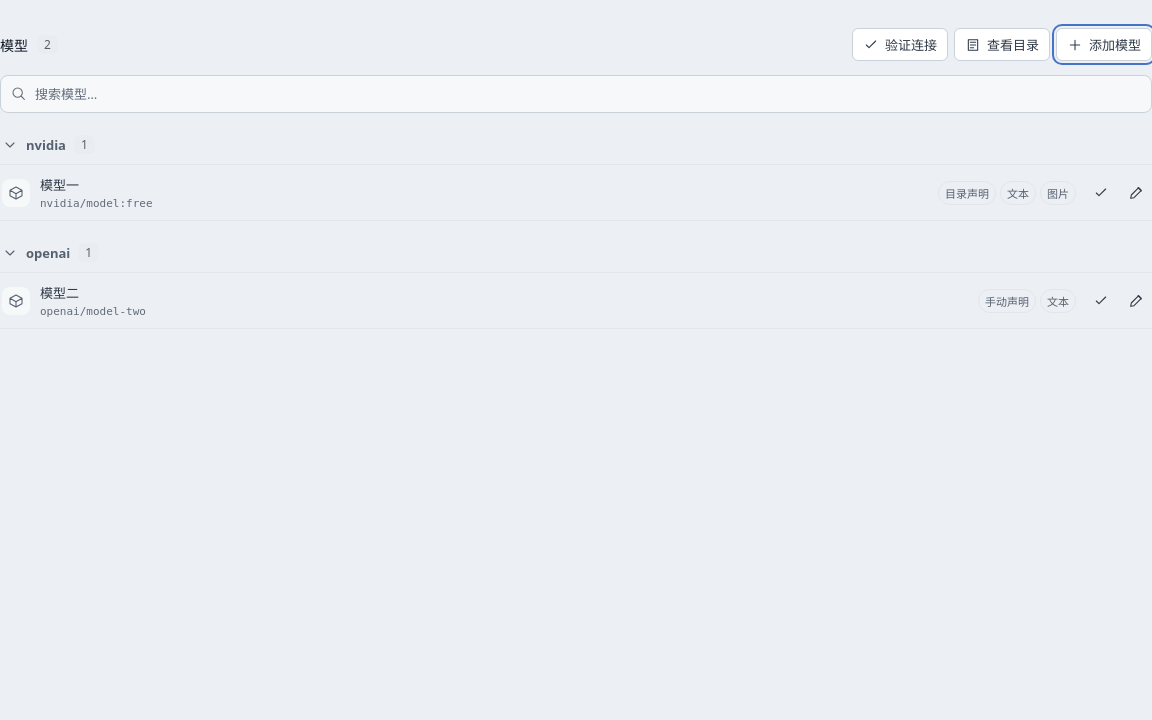
it: 紧凑模型管理 › 添加弹窗取消不保存，Escape关闭并恢复触发焦点
The width and height of the screenshot is (1152, 720).
expect the text "模型一" is shown: met, box [40,176,79,194]
Click the button "添加模型" at (1104, 44), box [1056,28,1151,61]
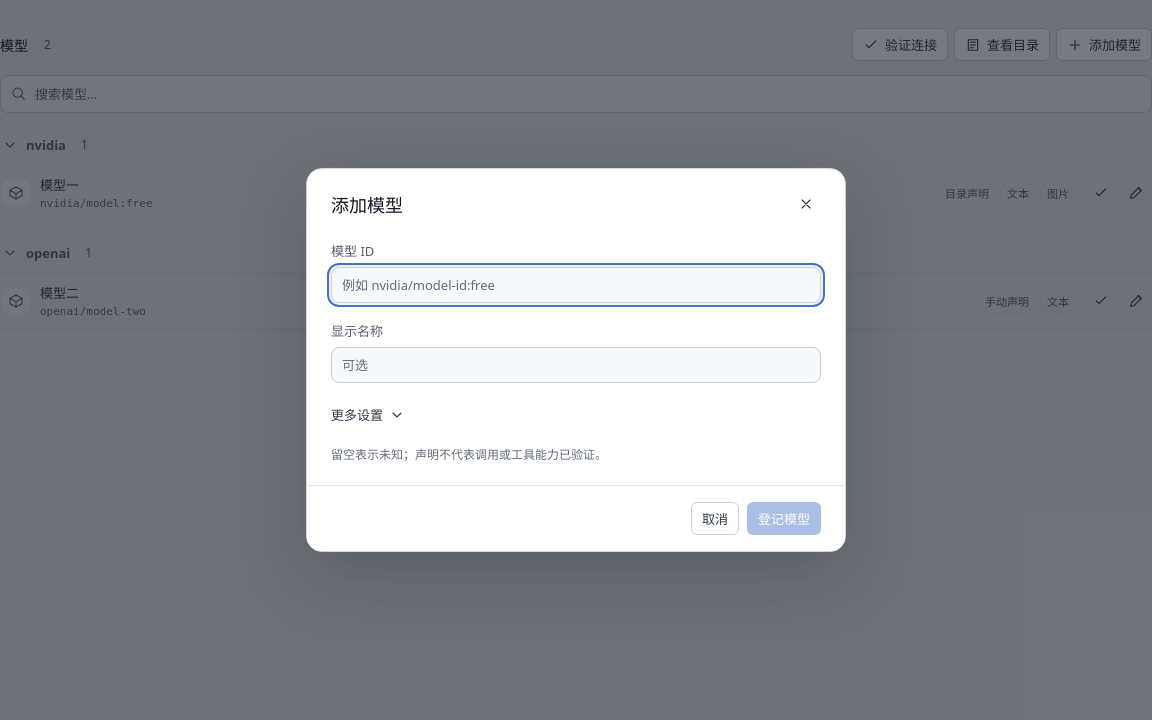
Type "new/model" into the field labelled "模型 ID" at (576, 285), box [331,267,821,303]
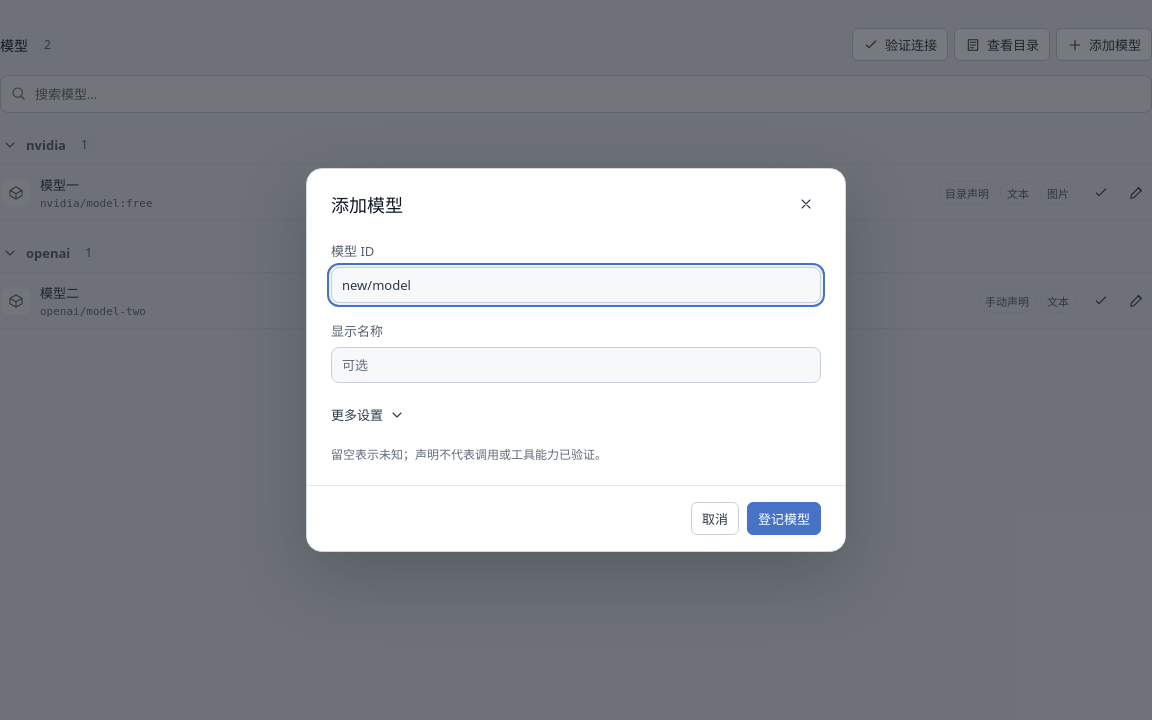
Press Escape
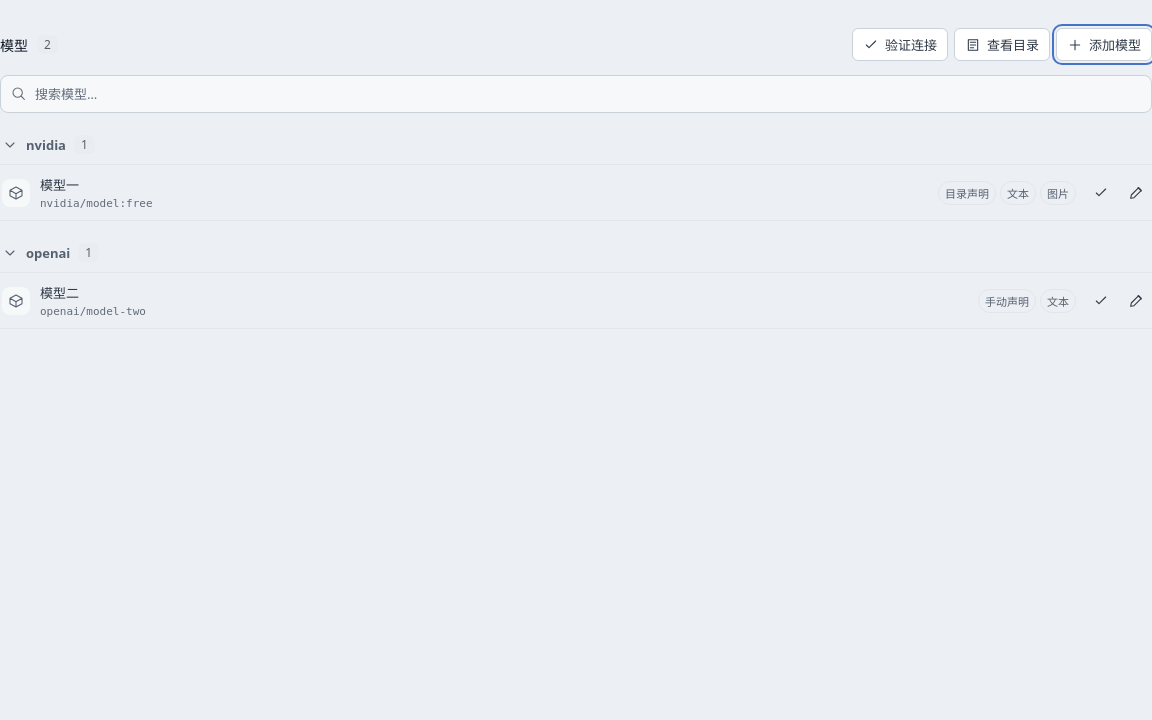
expect the dialog is gone: met
